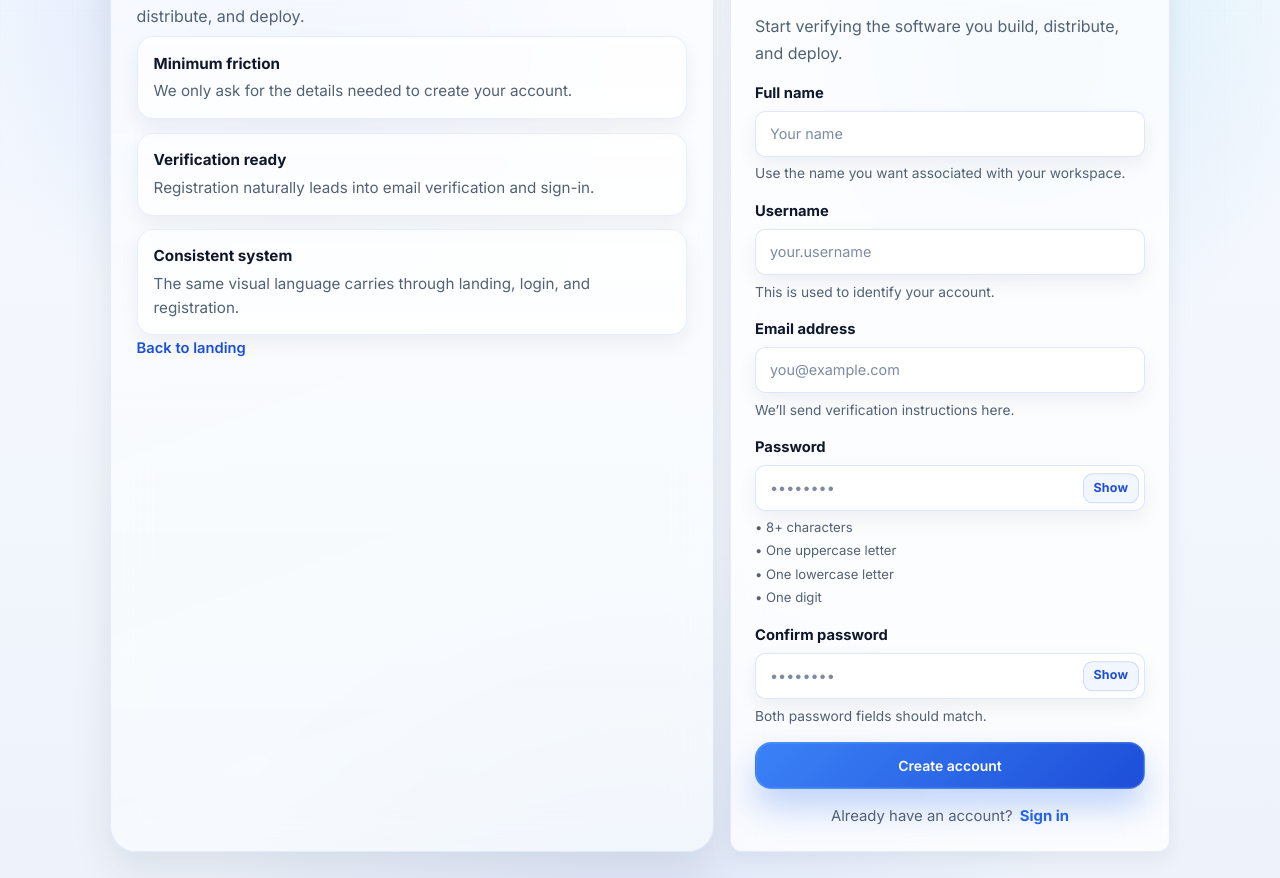
RegisterRoutePage › validates required fields
(page scrolled)
What coordinates should you click on to do the following:
click the button "Create account"
I would click on:
 (950, 766)
Its box is [755,742,1145,789].
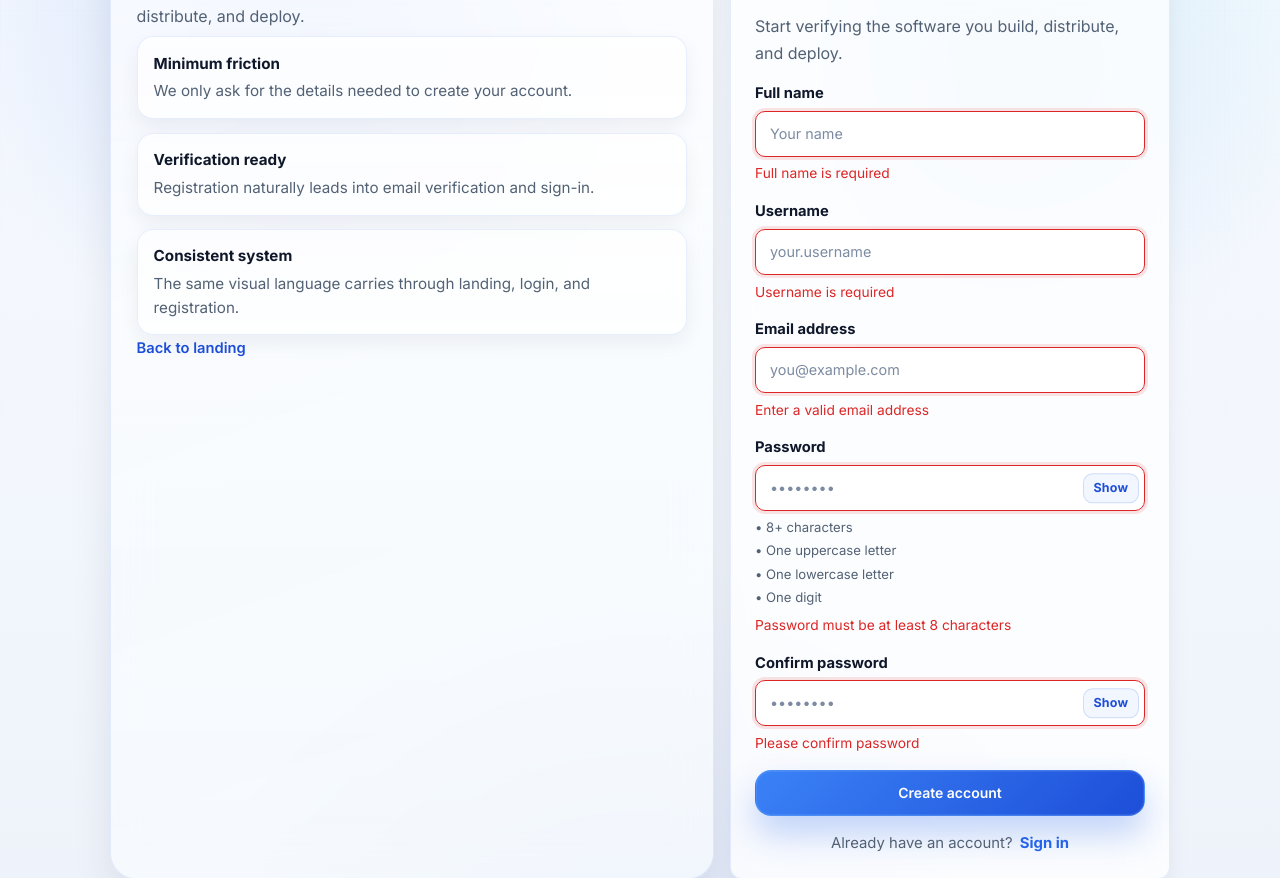
Now the text "Full name is required" is shown, box [755,166,890,182]
